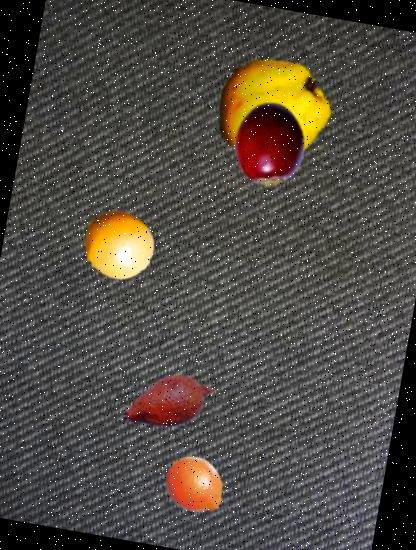Grapefruit: (78, 204, 160, 286)
Quince: (202, 42, 336, 176)
Salak: (113, 346, 225, 458)
Tamarillo: (218, 95, 322, 198)
Tangelo: (159, 449, 232, 522)
